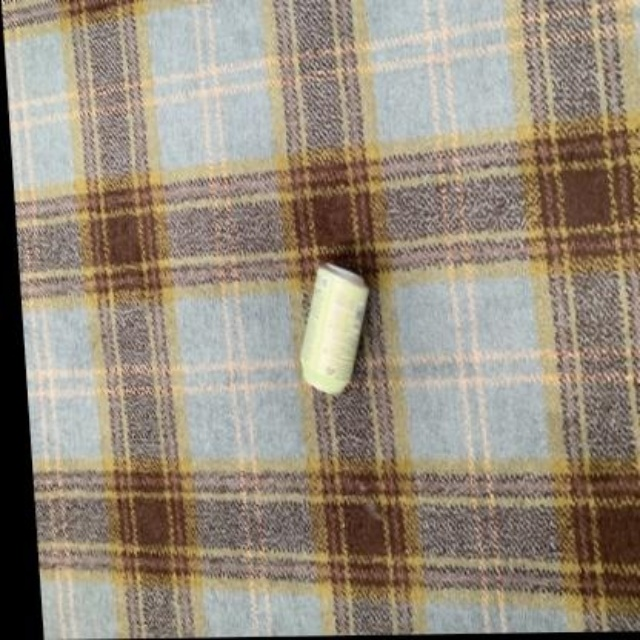trash: (300, 263, 368, 392)
